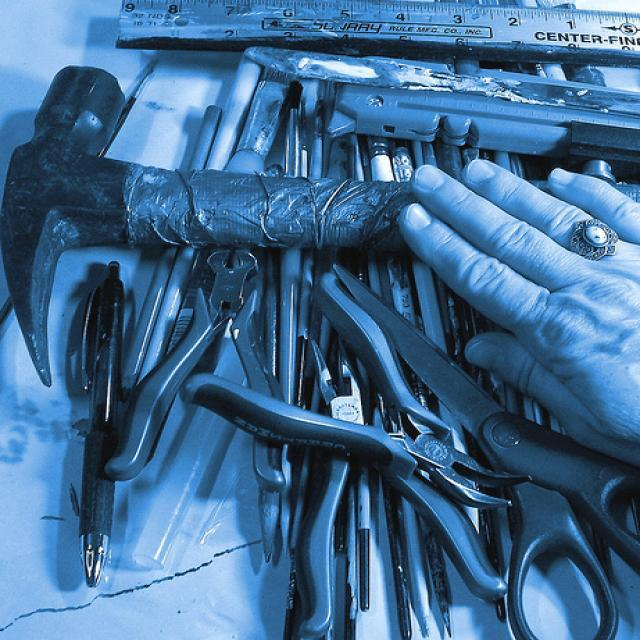hammer: (0, 51, 455, 376)
pliers: (250, 274, 514, 530)
